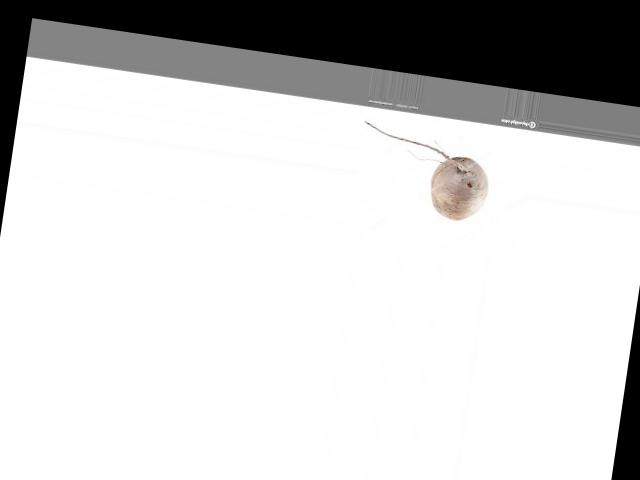beet: (352, 120, 494, 223)
